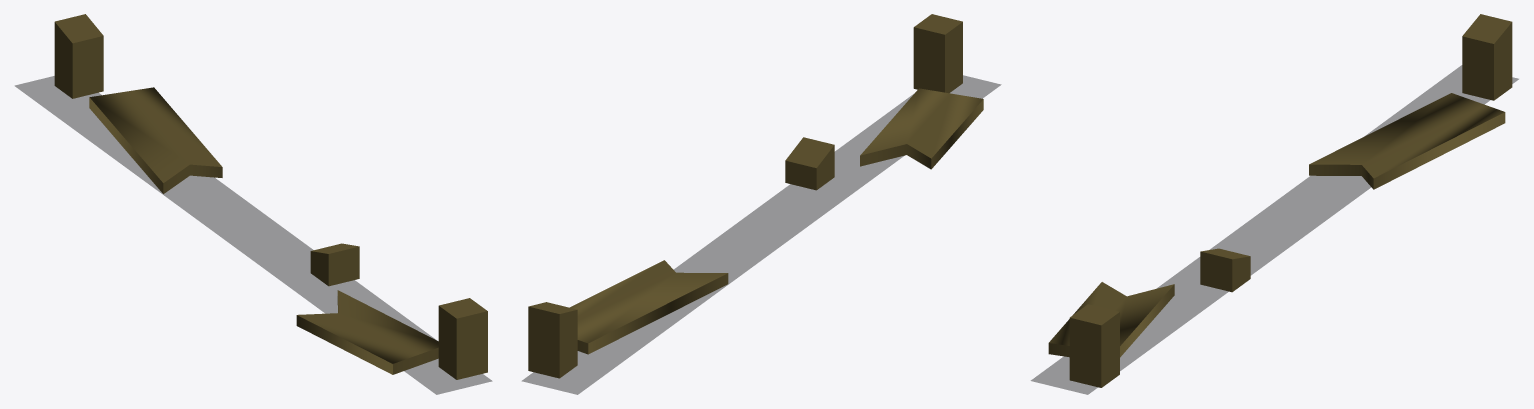
File: fence_unbuilt.fbx
3 renders of one model, left to right at view 1: azimuth 30°, elevation 25°; view 2: azimuth 150°, elevation 25°; view 3: azimuth 330°, elevation 25°, orthographic. The views are drawn at different scales.
Visible parts, largest first — view 1: fence_broken, fence_shade; view 2: fence_broken, fence_shade; view 3: fence_broken, fence_shade.
Part boxes in pixels (x1,y1,x2,y2): fence_broken: (54,14,487,379); fence_shade: (15,76,491,394); fence_broken: (528,14,983,378); fence_shade: (522,75,1000,394); fence_broken: (1048,14,1512,387); fence_shade: (1031,65,1518,394).
Bounding box in the file's own units: 114 × 56.16 × 660.
